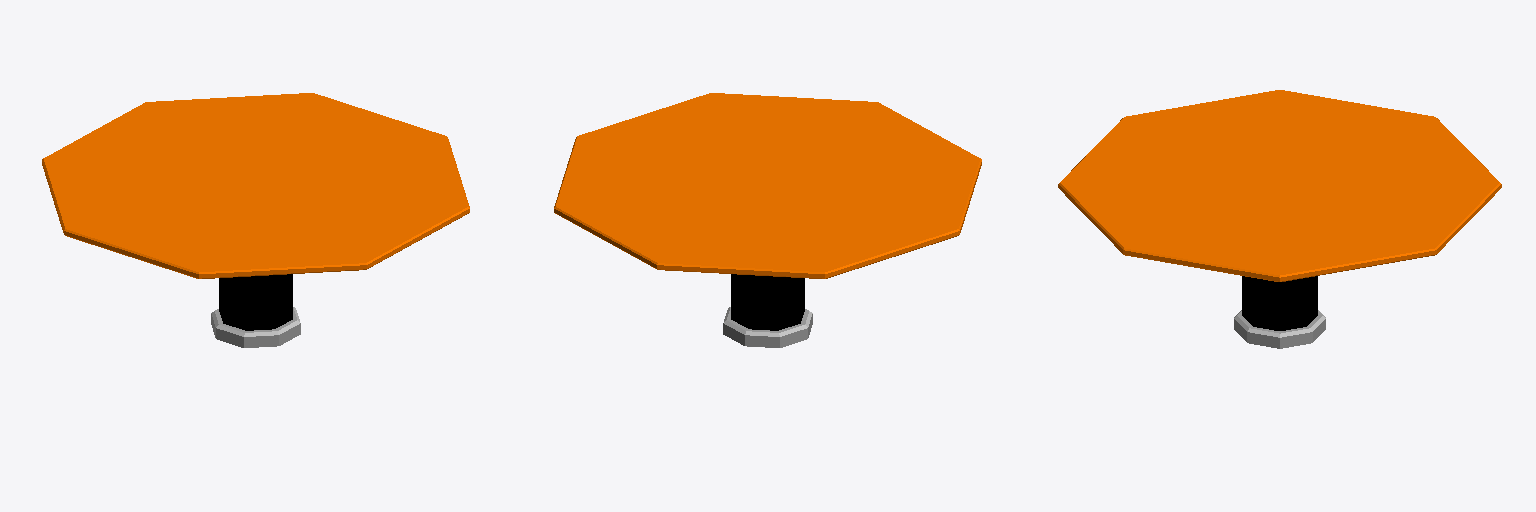
File: Octotable.obj
3 views of the same model, side by side, from view 1: azimuth 30°, elevation 25°; view 2: azimuth 150°, elevation 25°; view 3: azimuth 270°, elevation 25° (orthographic).
Visible parts, largest first — view 1: Mesh2 Group2 Model, Mesh1 Group1 Model; view 2: Mesh2 Group2 Model, Mesh1 Group1 Model; view 3: Mesh2 Group2 Model, Mesh1 Group1 Model.
Boxes of the visible parts, box(x1,y1,x2,y2) form: Mesh2 Group2 Model: box(42, 93, 469, 278); Mesh1 Group1 Model: box(211, 274, 300, 347); Mesh2 Group2 Model: box(554, 93, 981, 278); Mesh1 Group1 Model: box(723, 274, 812, 347); Mesh2 Group2 Model: box(1058, 90, 1501, 281); Mesh1 Group1 Model: box(1234, 276, 1325, 348).
Bounding box in the file's own units: 1437 × 525 × 1437.